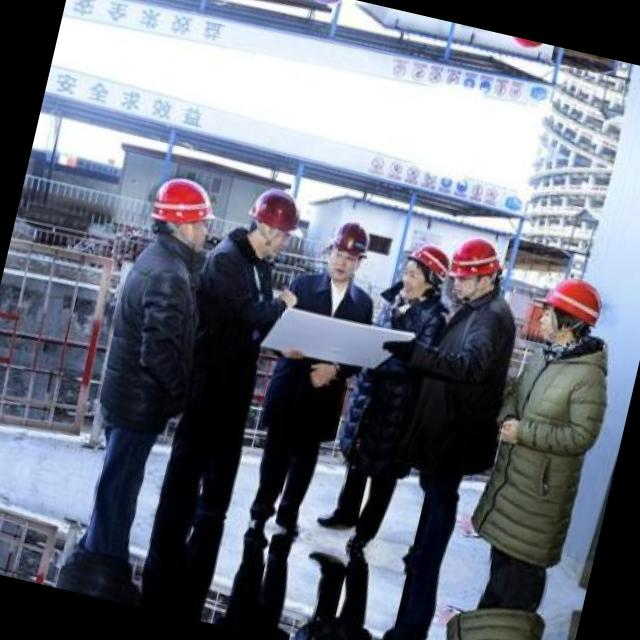helmet: (140, 166, 222, 255), (531, 268, 609, 354), (240, 179, 308, 259), (442, 228, 510, 306), (321, 211, 372, 286), (394, 234, 450, 300), (498, 34, 556, 60), (295, 0, 353, 13)
